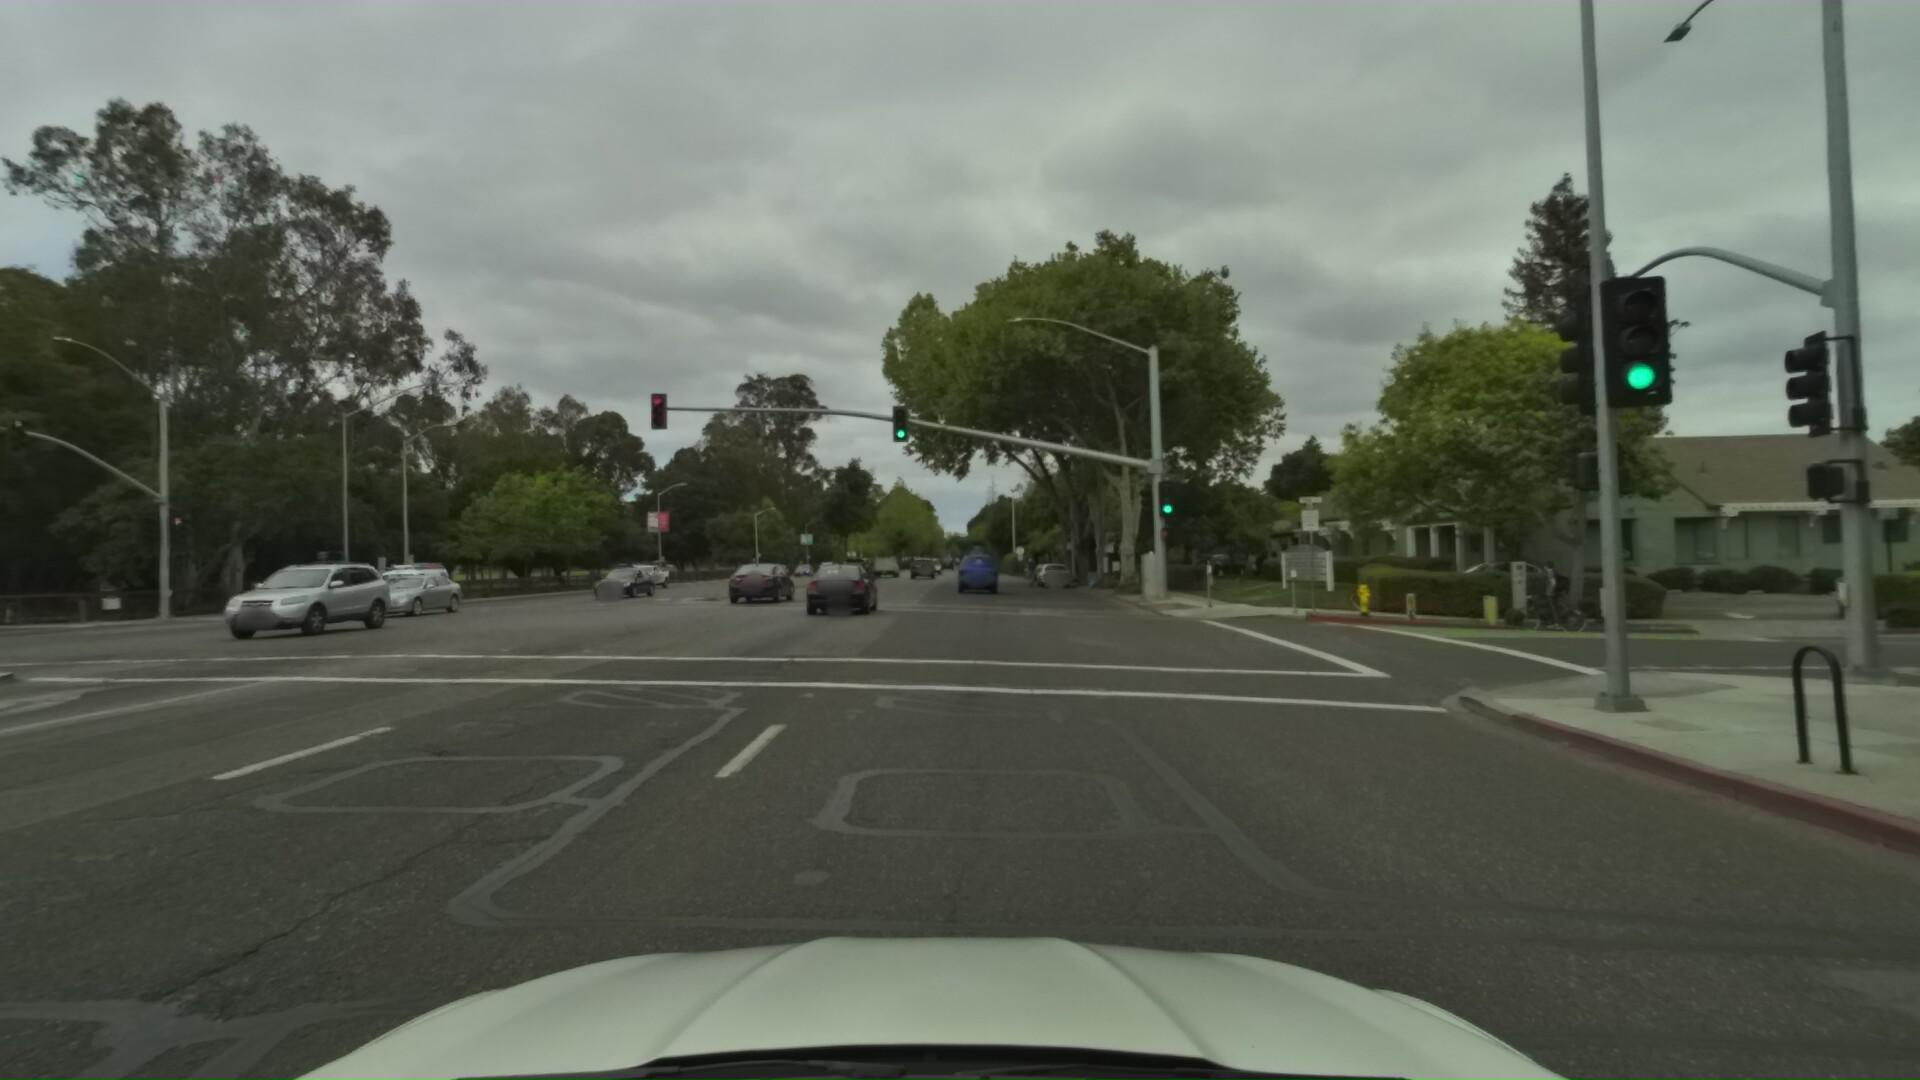bicycle: (1501, 549, 1596, 626)
car: (175, 556, 382, 640), (1412, 547, 1565, 611), (339, 568, 459, 618), (338, 556, 446, 608), (794, 556, 880, 620), (723, 553, 800, 608), (580, 564, 651, 603), (952, 545, 1000, 589), (611, 556, 665, 591), (836, 553, 877, 584), (909, 553, 938, 578)
